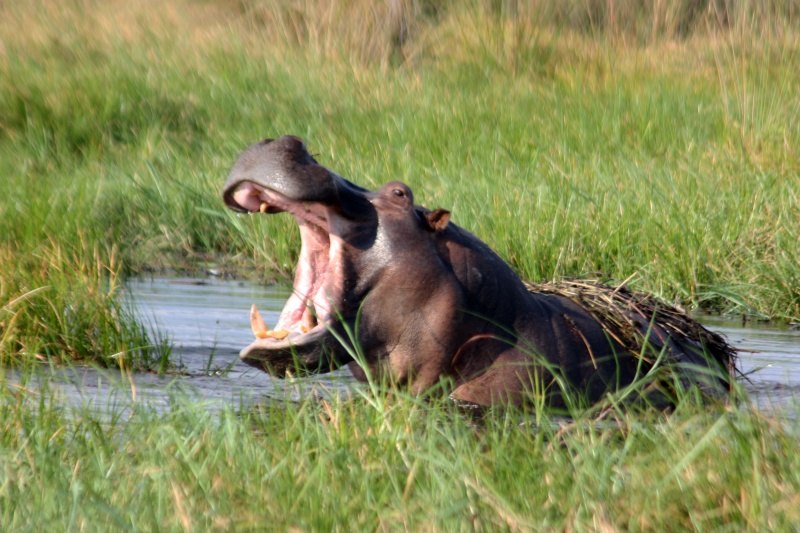hipopotamo: (219, 131, 757, 425)
